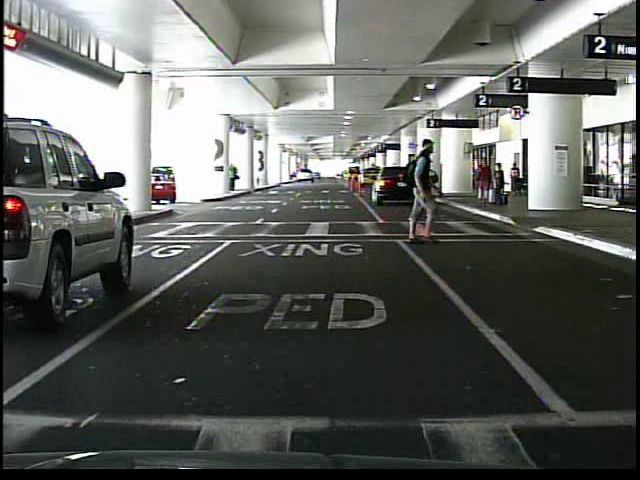person: (387, 143, 459, 245), (471, 158, 494, 203), (494, 162, 509, 206), (510, 162, 520, 193), (229, 164, 239, 193)
